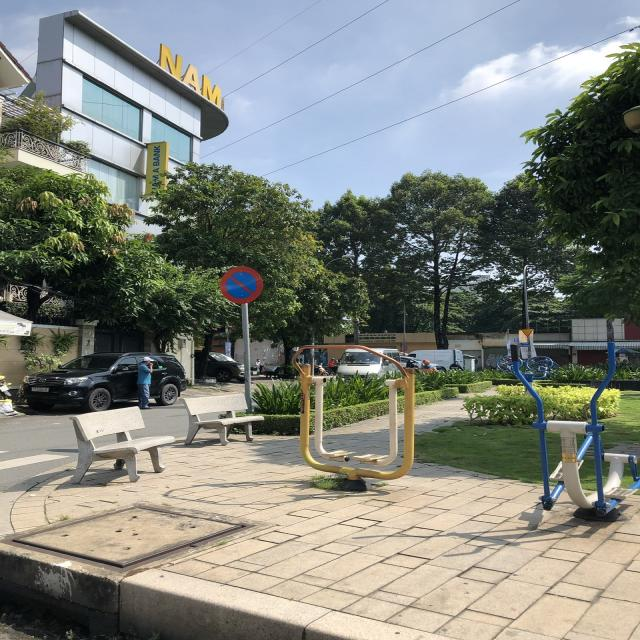Bien bao cam do xe: (215, 262, 270, 308)
